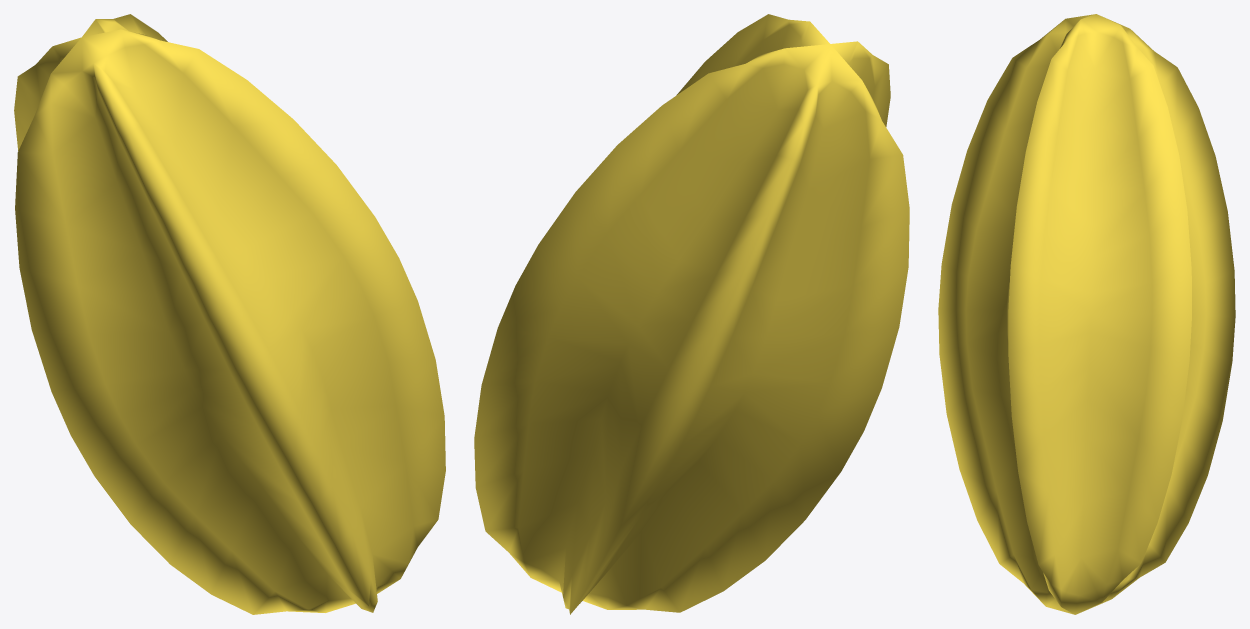
File: starfruit-1.glb
The picture shows the model from 3 angles, left to right: view 1: azimuth 30°, elevation 25°; view 2: azimuth 150°, elevation 25°; view 3: azimuth 270°, elevation 25°; orthographic projection. The views are drawn at different scales.
Visible parts, largest first — view 1: starfruit:pSphere1_lambert3_0; view 2: starfruit:pSphere1_lambert3_0; view 3: starfruit:pSphere1_lambert3_0.
Part boxes in pixels (<box>): starfruit:pSphere1_lambert3_0: <box>14,14,445,614</box>; starfruit:pSphere1_lambert3_0: <box>474,14,909,614</box>; starfruit:pSphere1_lambert3_0: <box>938,14,1235,614</box>.
Bounding box in the file's own units: 0.7928 × 1.22 × 0.6502.
